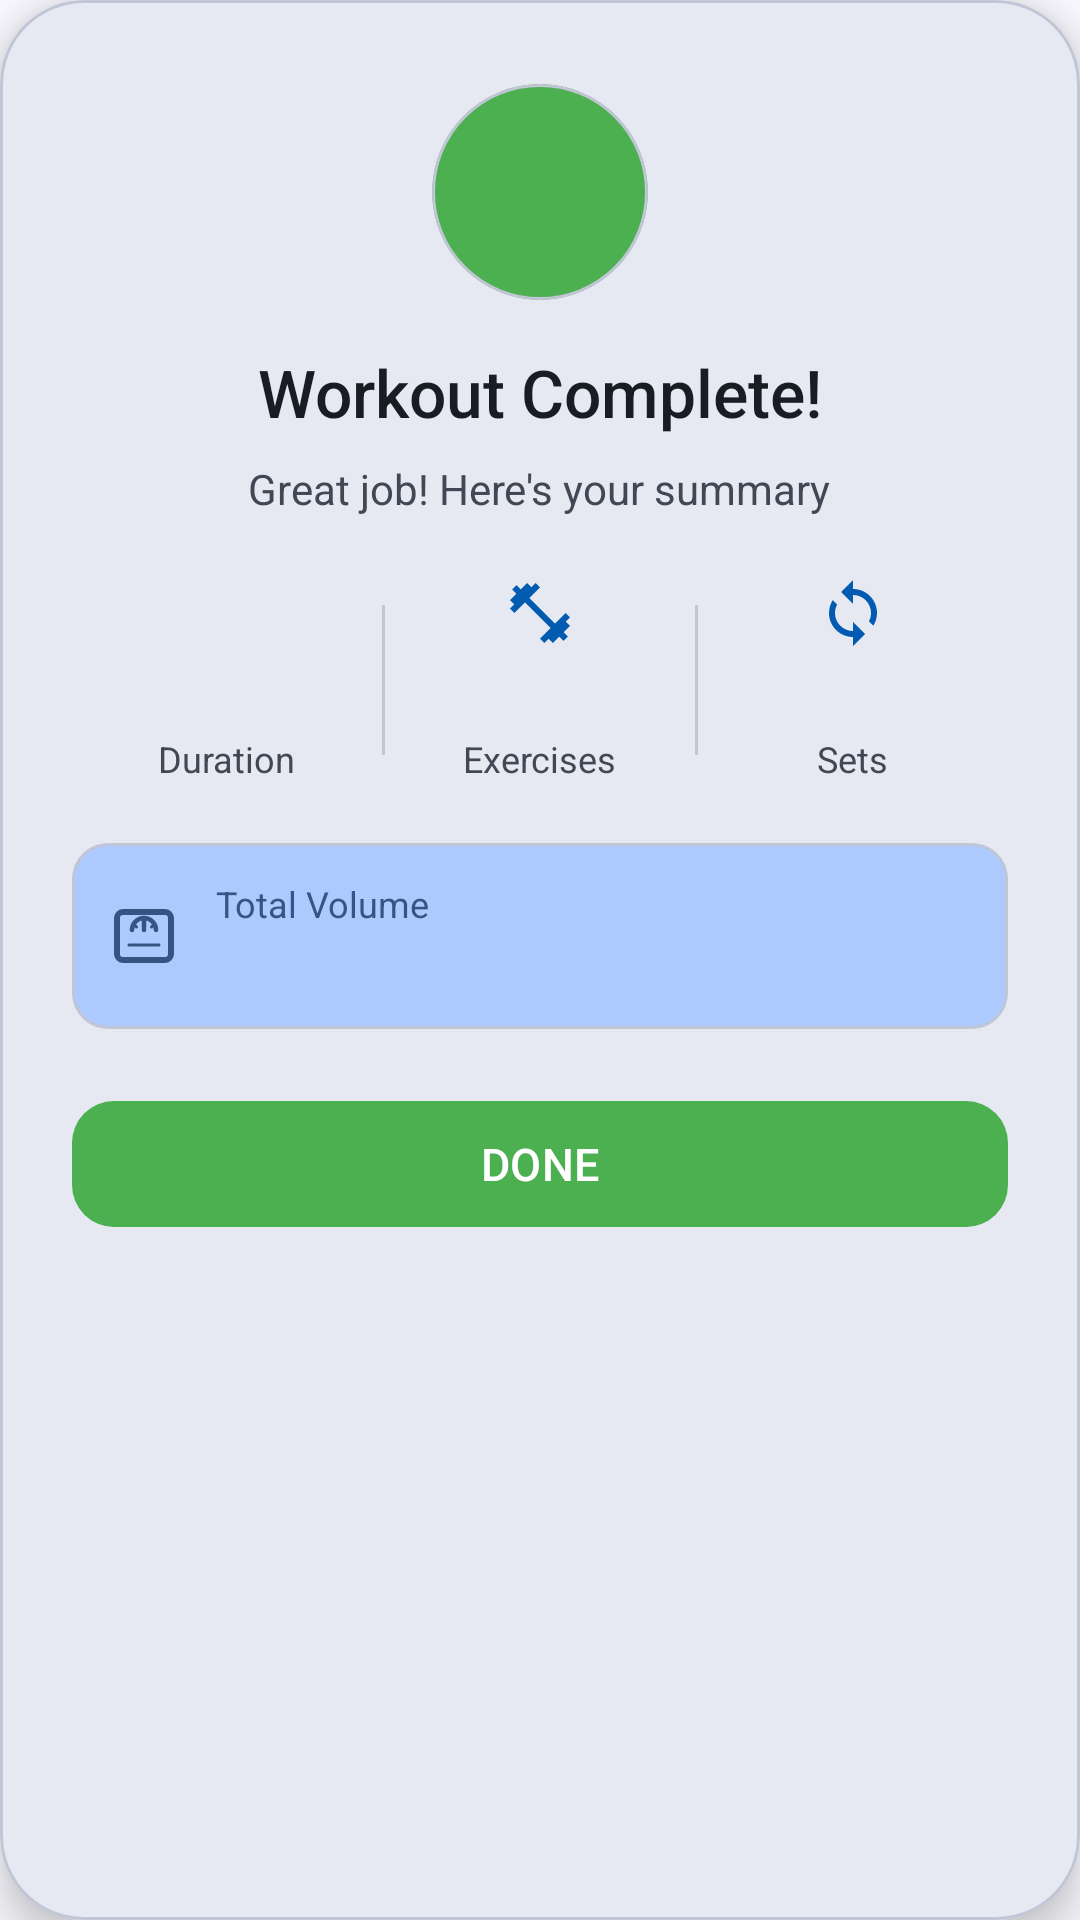

Where to tap for icons on this 1080×1920 app screen, as (x,y):
fitness: (540,613)
repeat: (853,613)
weight: (144,936)
